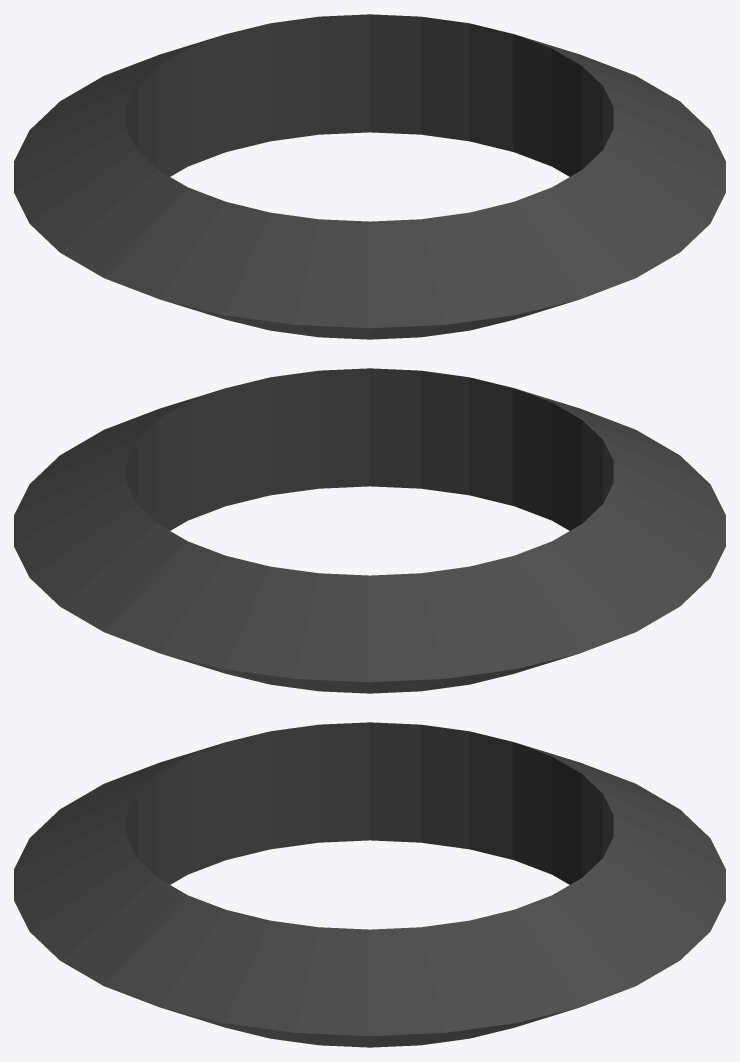
Rendered from metalfrisbee.fbx.
3 renders of one model, top to bottom at view 1: azimuth 30°, elevation 25°; view 2: azimuth 150°, elevation 25°; view 3: azimuth 270°, elevation 25°, orthographic.
Visible parts, largest first — view 1: Torus.001; view 2: Torus.001; view 3: Torus.001.
Boxes of the visible parts, box(x1,y1,x2,y2) form: Torus.001: box(14, 14, 725, 339); Torus.001: box(14, 368, 725, 693); Torus.001: box(14, 722, 725, 1047).
Size of the model in its own units: 276 by 50.23 by 274.
1 material, 1 textured.
